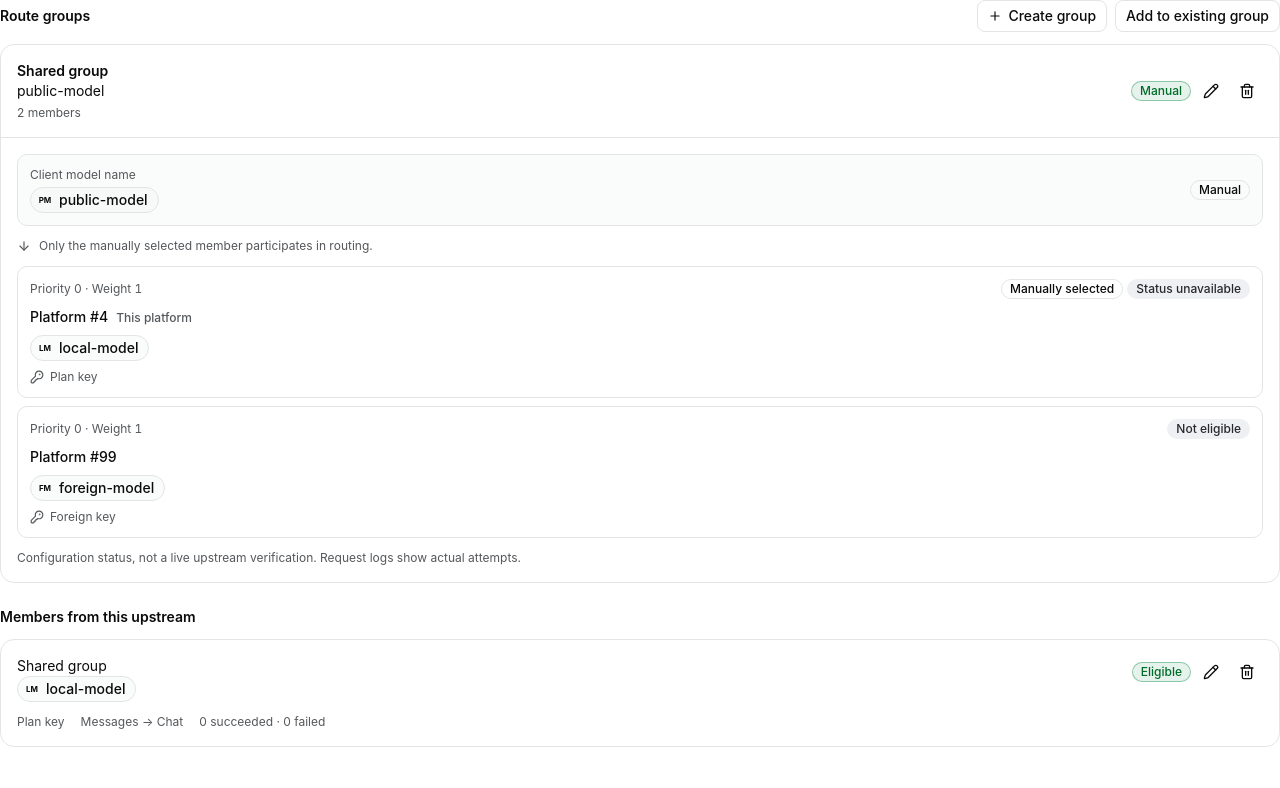
upstream route group management › shows a failed group save and retains the draft for retry
This screenshot has width=1280, height=788.
Click the button named "Edit group Shared group" at (1211, 91), box [1195,75,1227,107]
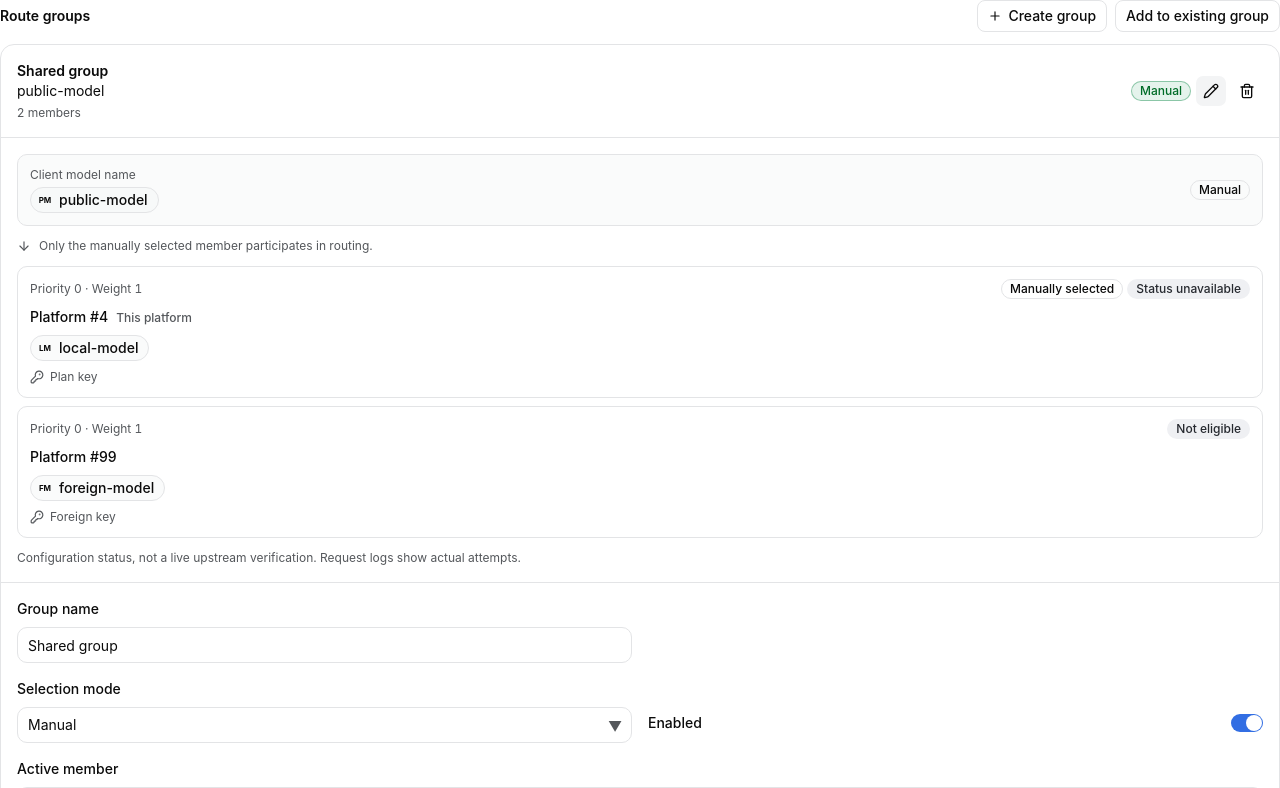
Replace the text in the field labelled "Group name" with "Draft" at (324, 645), box [17,627,632,663]
(page scrolled)
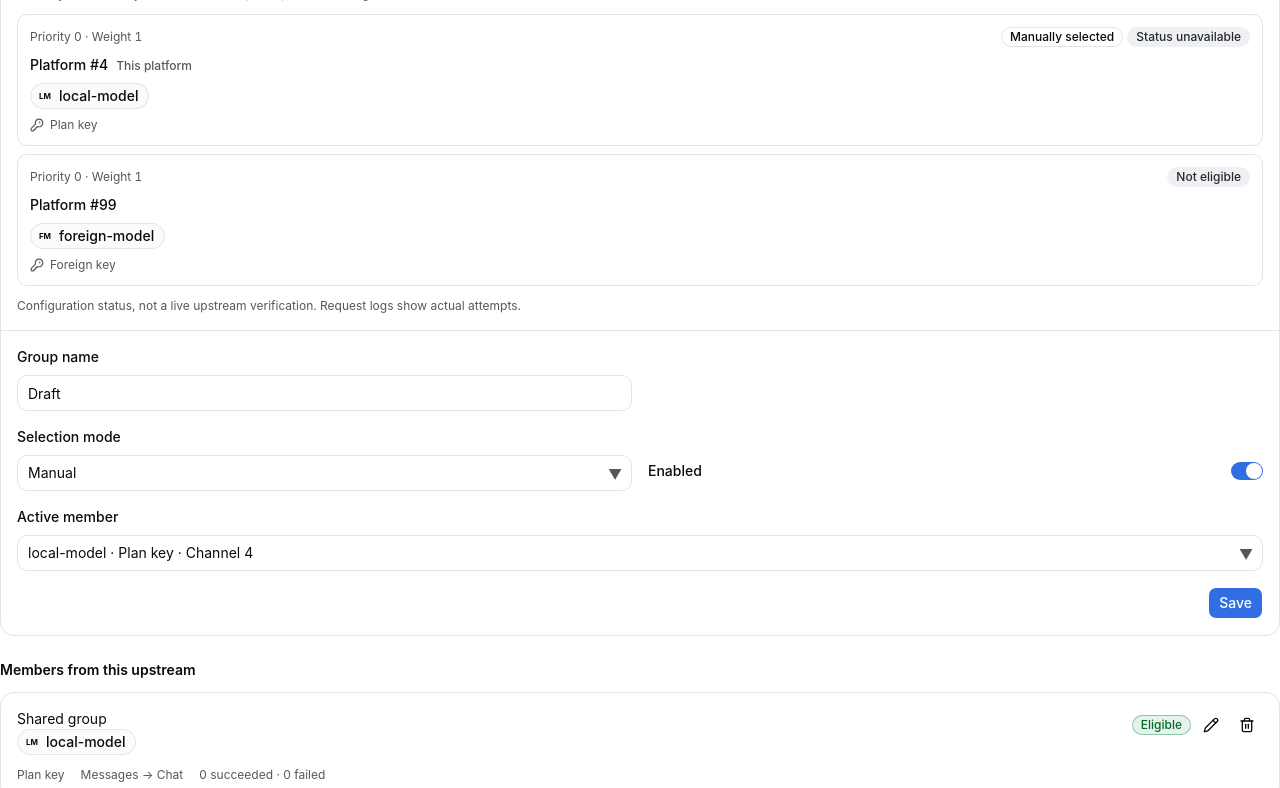
Click the button "Save" at (1236, 603), box [1208,587,1263,619]
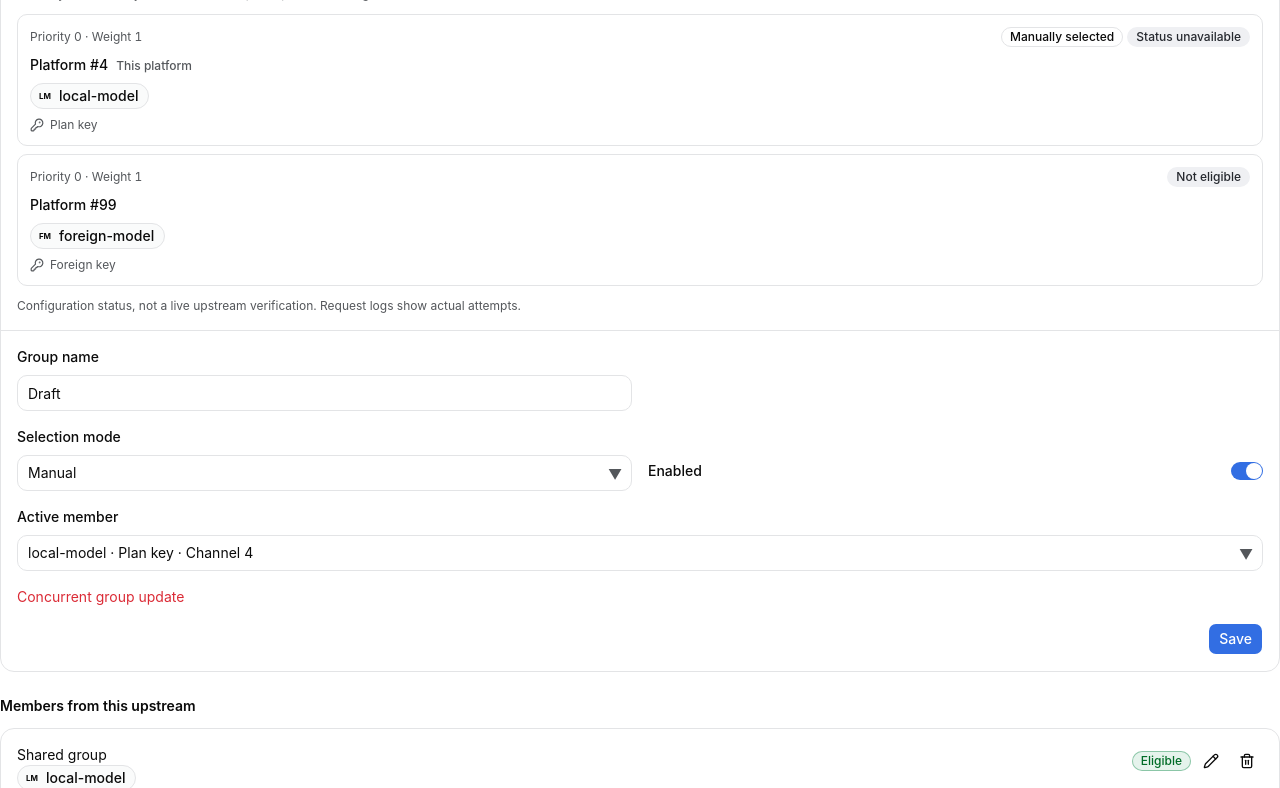
Now the button "Save" is enabled, box [1208,623,1263,655]
Now the message reads "Concurrent group update", box [17,588,184,605]
